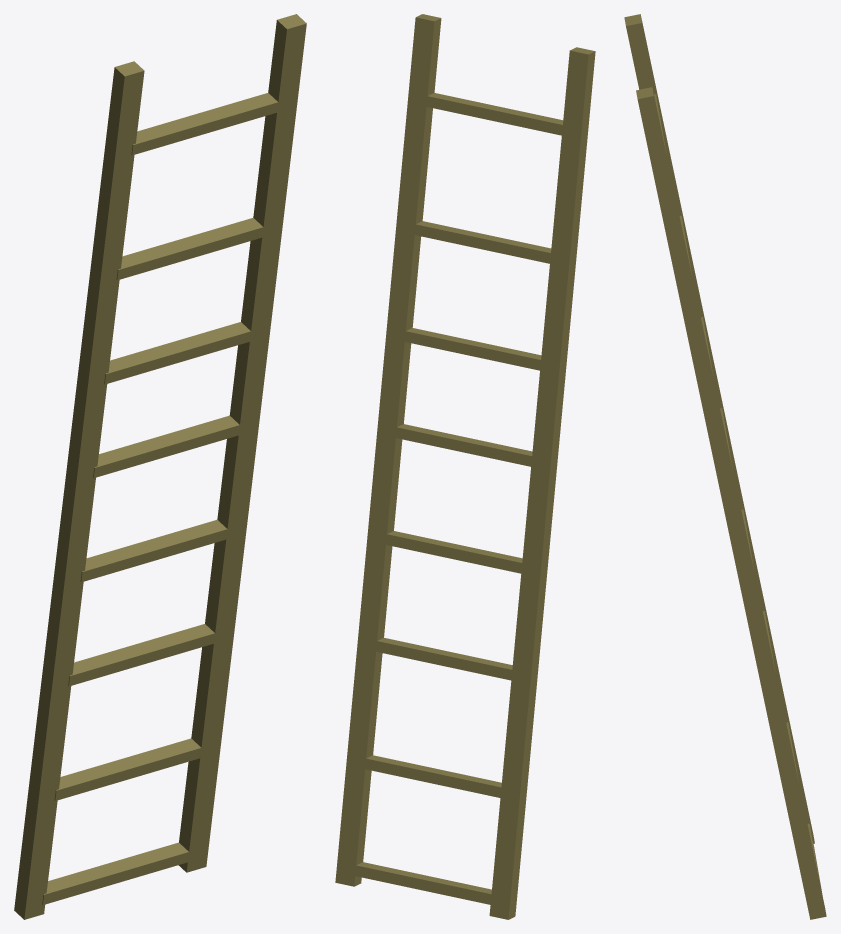
The model's file is Echelle_Bibli.fbx.
3 renders of one model, left to right at view 1: azimuth 30°, elevation 25°; view 2: azimuth 150°, elevation 25°; view 3: azimuth 270°, elevation 25°, orthographic. The views are drawn at different scales.
Parts seen in each view (by area): view 1: pCube1, pCube2; view 2: pCube1, pCube2; view 3: pCube1, pCube2.
Boxes of the visible parts, x1,y1,x2,y2 form: pCube1: (42,14,306,904); pCube2: (14,61,144,919); pCube1: (335,14,563,904); pCube2: (489,47,595,919); pCube1: (636,87,826,919); pCube2: (624,14,814,843).
Bounding box in the file's own units: 97.45 × 437 × 97.02.
